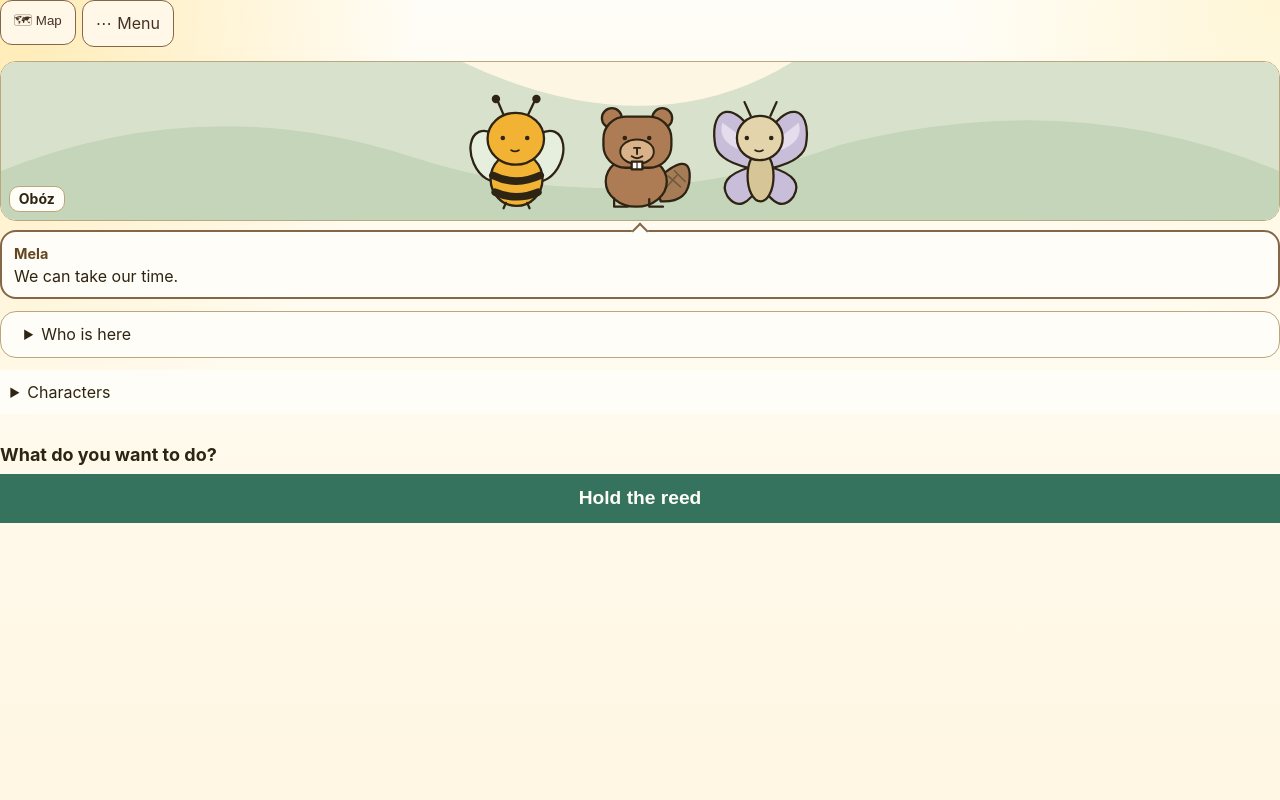
it: shows a title-less illustrated pack as an expedition and preserves text and focus on travel
Expected: the button "Hold the reed" is shown, [0, 474, 1279, 523]
Step 1. Click the button with class "game-map-button" → (38, 22), box [0, 0, 76, 45]
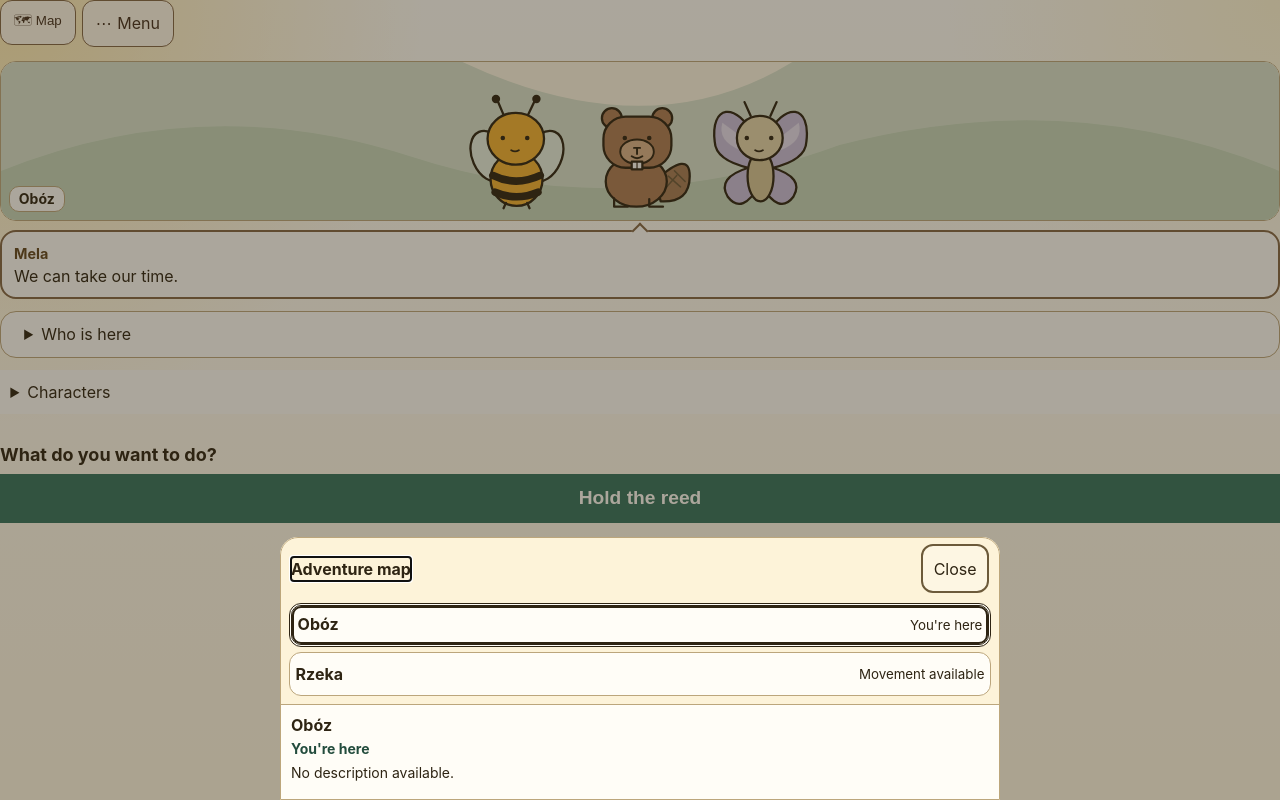
Step 2. Click the button "Rzeka Movement available" → (319, 674), box [289, 652, 991, 696]
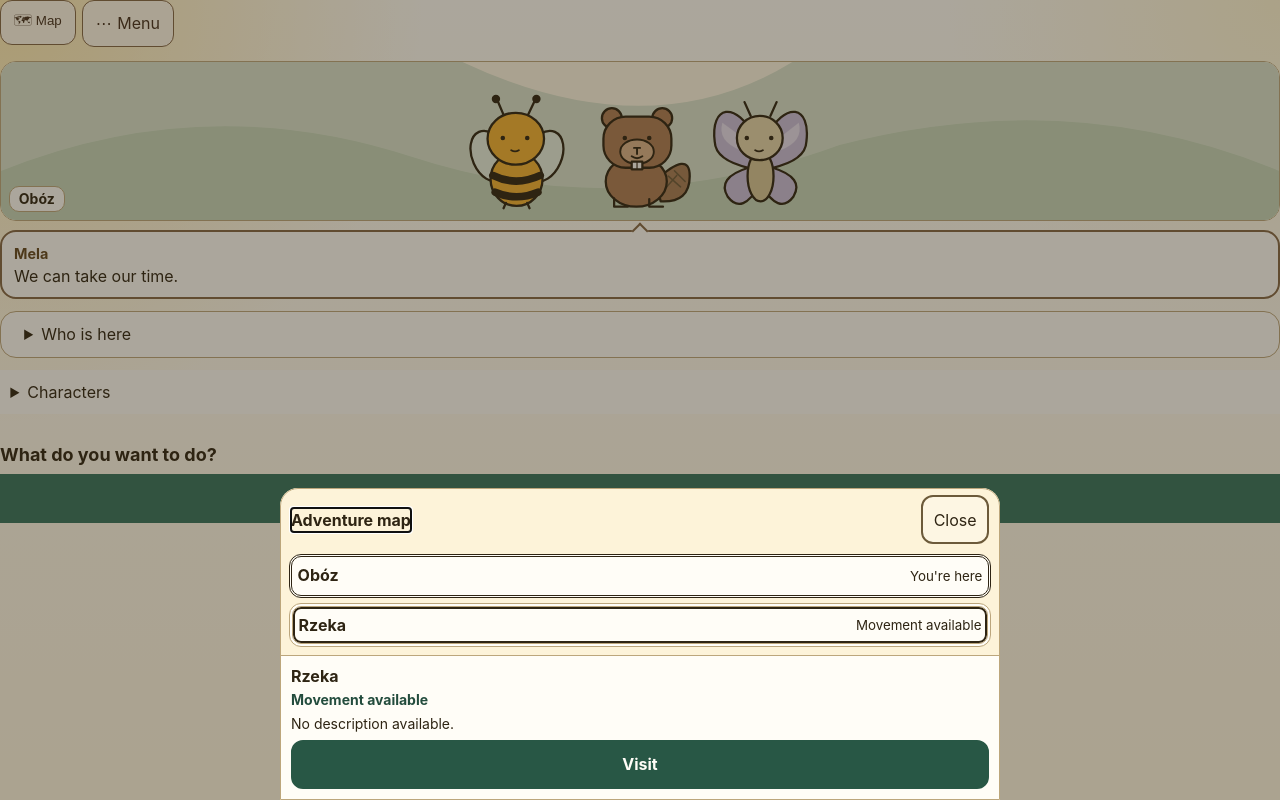
Step 3. Click the button with aria-label "Visit: Rzeka" → (640, 764), box [291, 740, 989, 789]
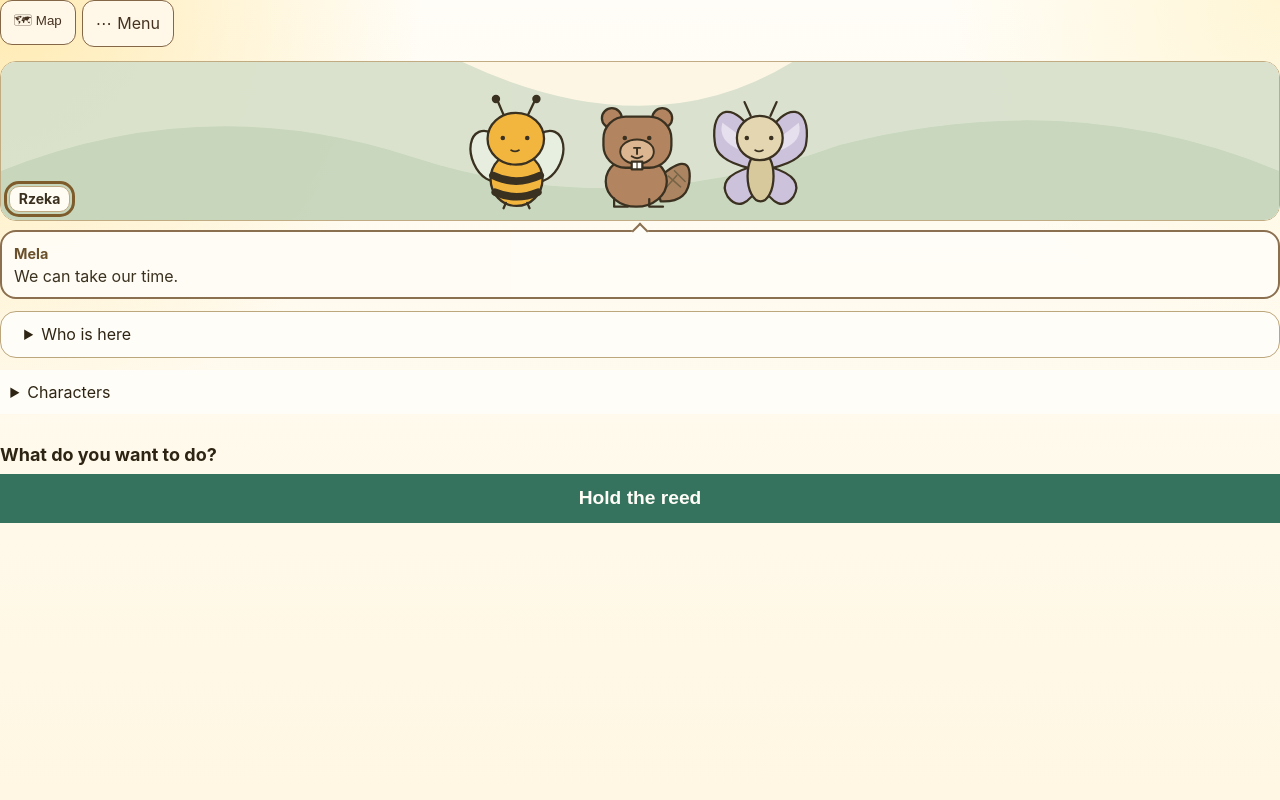
Now the heading with class "game-expedition-location" reads "Rzeka", box [19, 190, 60, 208]
